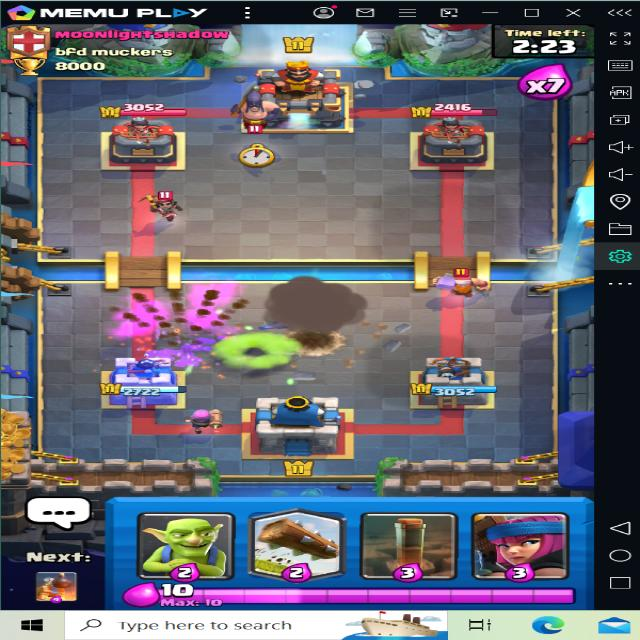executioner: (224, 83, 292, 138)
little-prince: (139, 187, 189, 227)
lumberjack: (436, 258, 496, 297)
